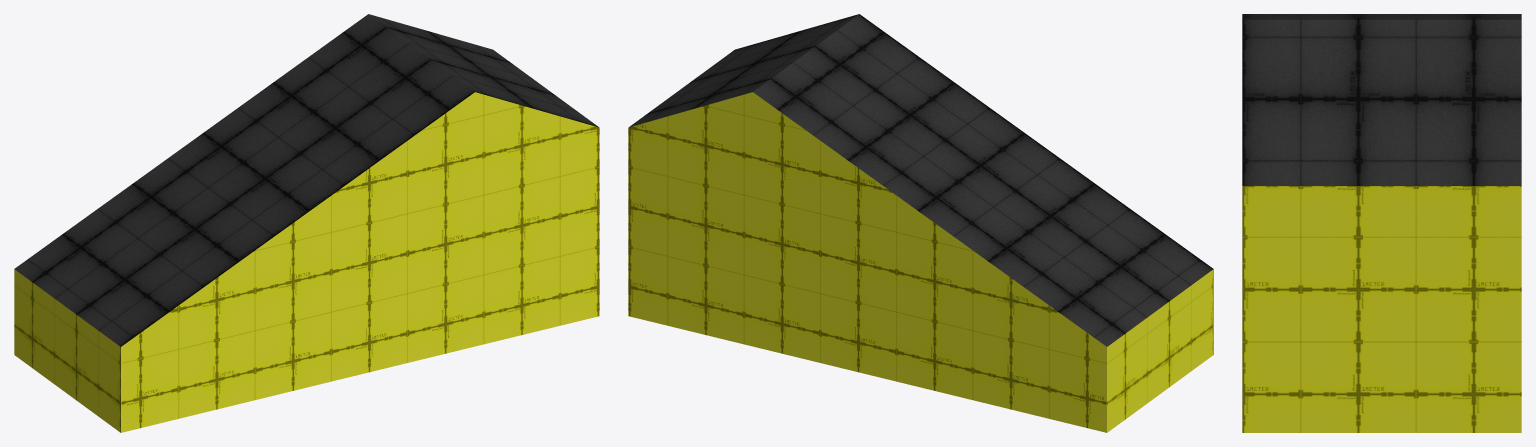
Rendered from CHOZA.fbx.
The picture shows the model from 3 angles, left to right: view 1: azimuth 30°, elevation 25°; view 2: azimuth 150°, elevation 25°; view 3: azimuth 270°, elevation 25°; orthographic projection. The views are drawn at different scales.
Parts seen in each view (by area): view 1: CHOZA; view 2: CHOZA; view 3: CHOZA.
Part boxes in pixels (bbox=[...]): CHOZA: bbox=[14, 14, 599, 432]; CHOZA: bbox=[628, 14, 1213, 432]; CHOZA: bbox=[1242, 14, 1521, 432].
Size of the model in its own units: 6.28 by 3.19 by 2.42.
